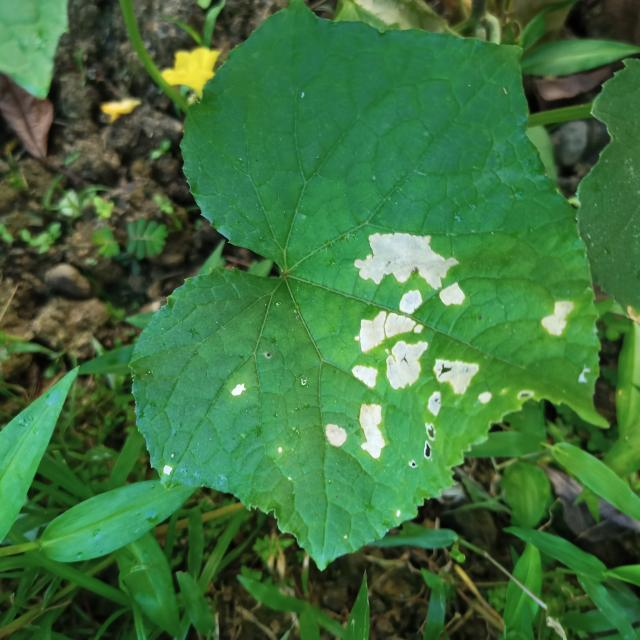disease_cucumber: (318, 228, 485, 476), (534, 291, 582, 353), (222, 375, 257, 405)
